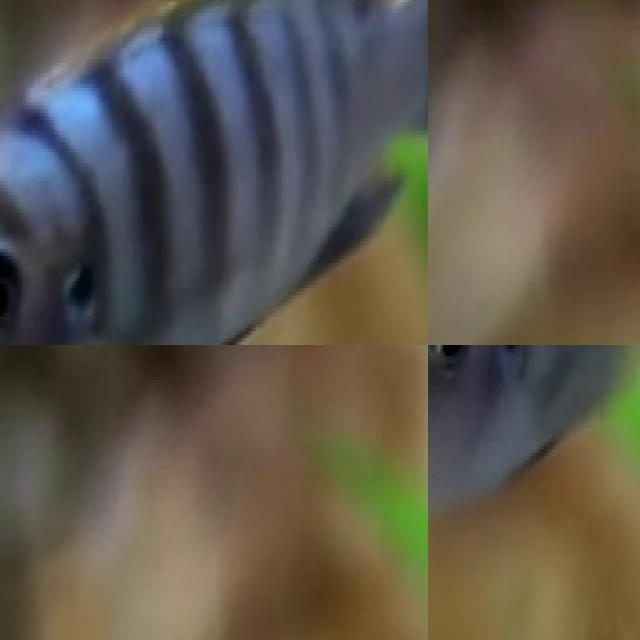fish: (0, 0, 428, 345), (428, 345, 640, 538)
